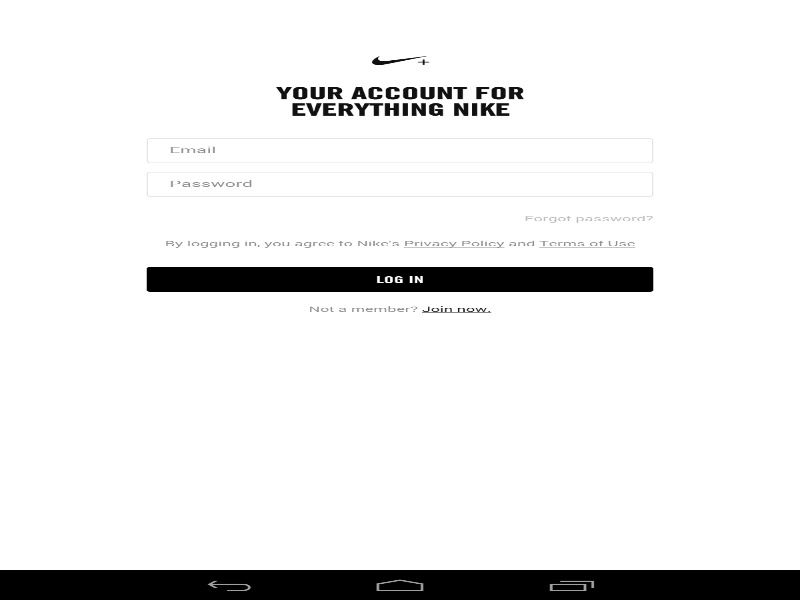Button: (146, 266, 653, 291)
Input: (146, 138, 653, 163), (146, 171, 653, 196)
